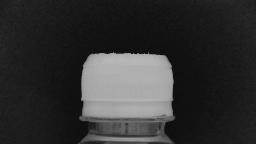Broken Cap: (76, 49, 176, 124)
